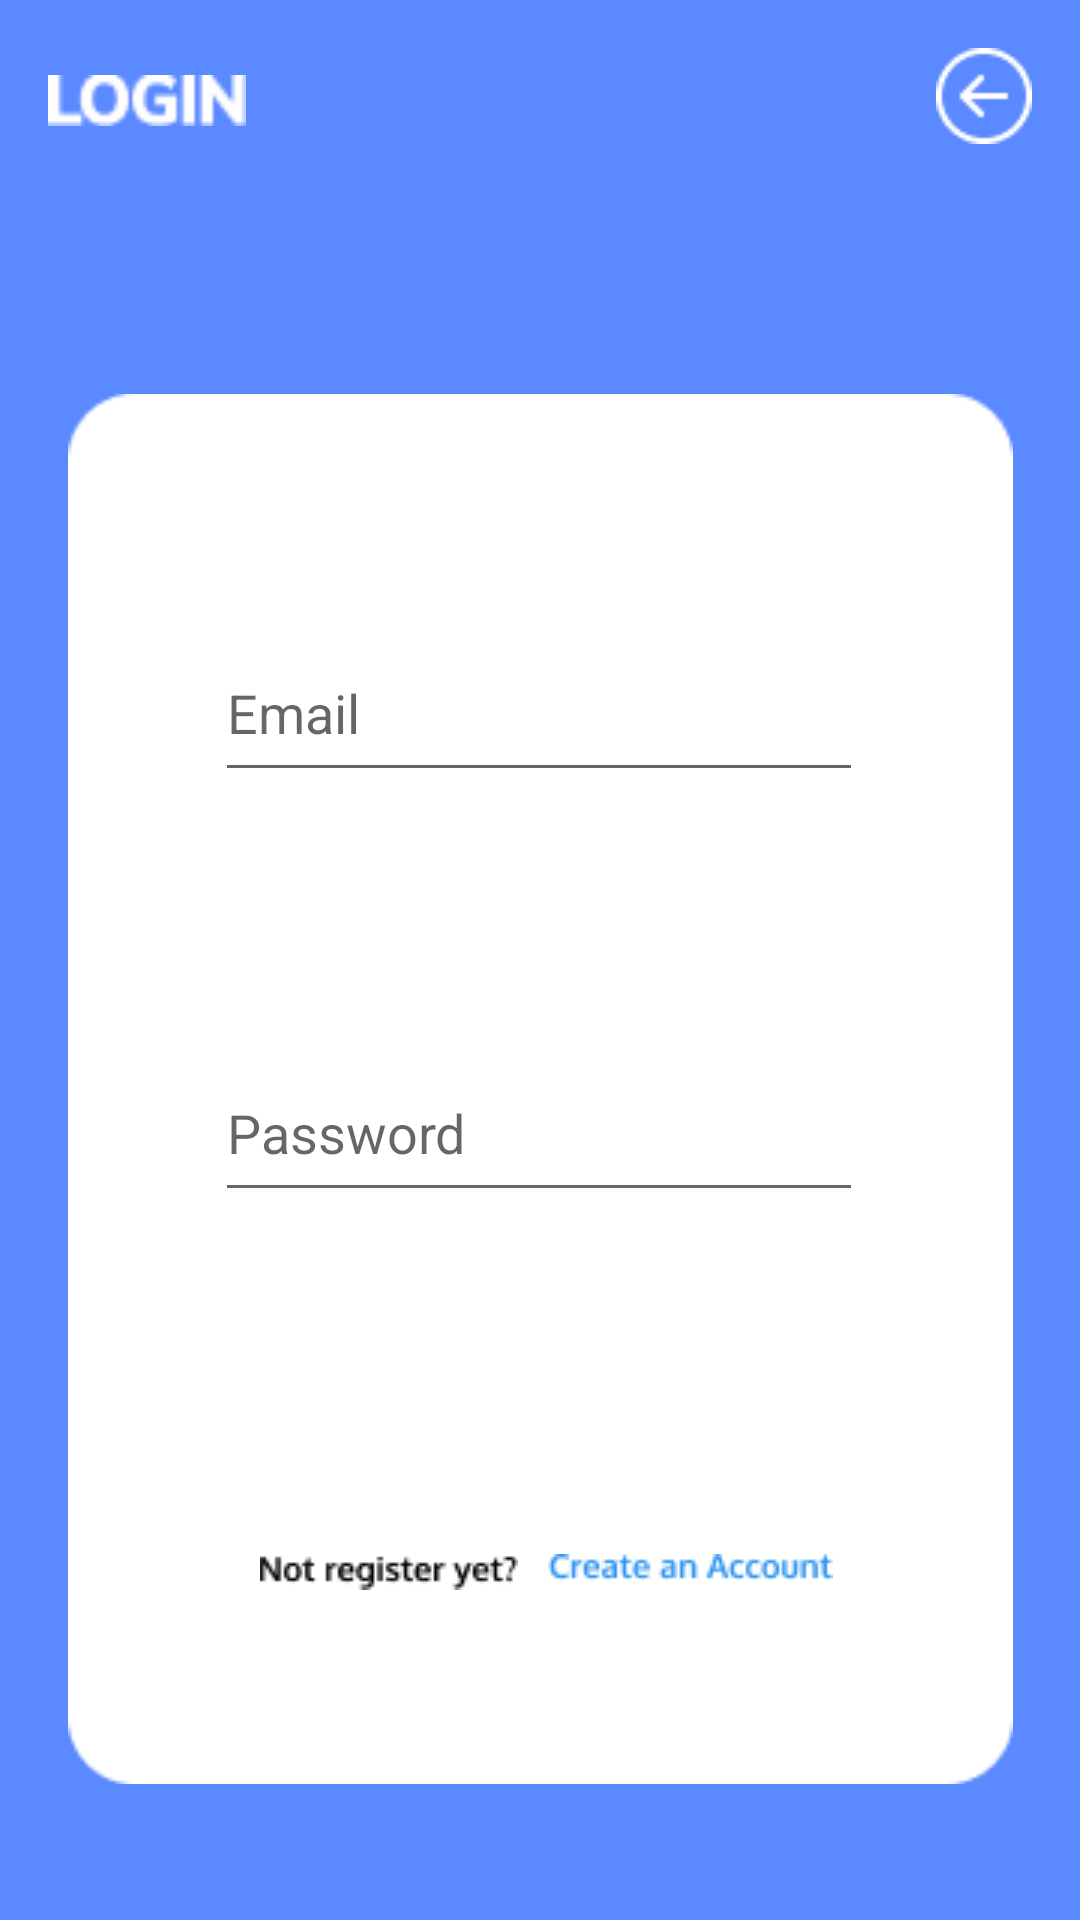

Where to tap for icons on this 1080*1920 app screen, as point (x, y):
arrow: point (984, 96)
